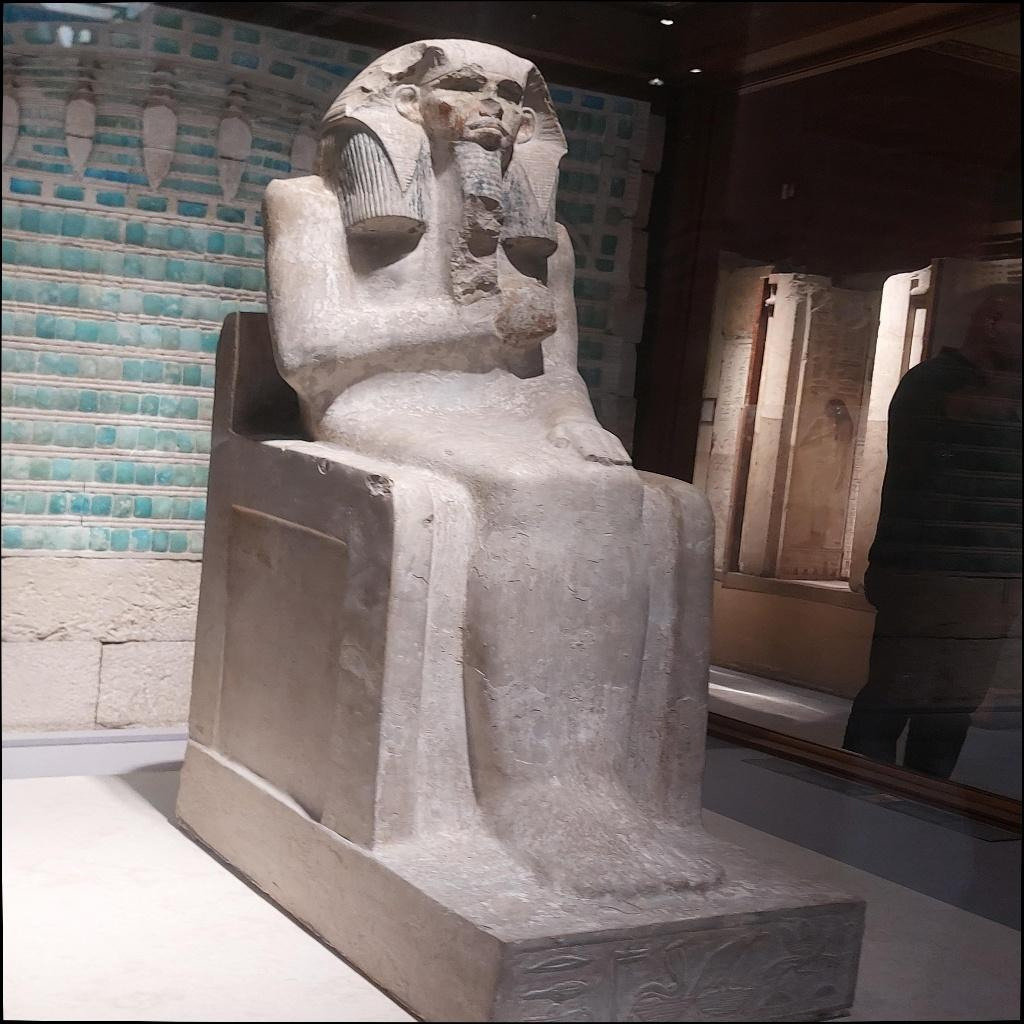Seated Statue of Djoser: (232, 35, 740, 904)
